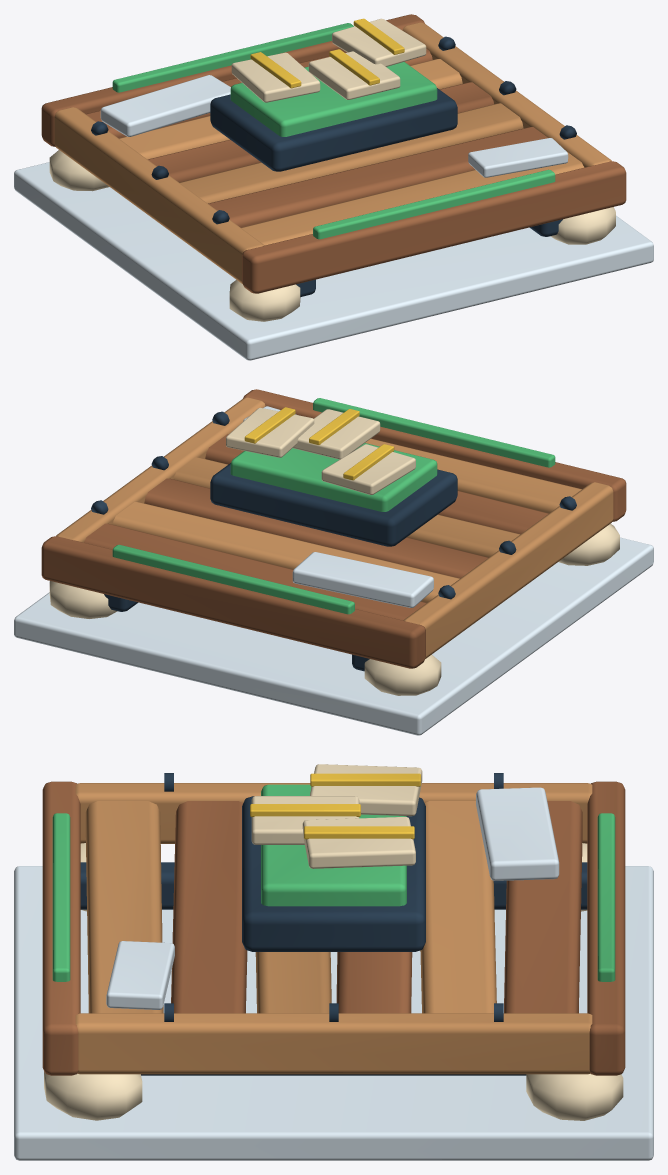
File: pad_payment.glb
The picture shows the model from 3 angles, top to bottom: view 1: azimuth 30°, elevation 25°; view 2: azimuth 150°, elevation 25°; view 3: azimuth 270°, elevation 25°; orthographic projection. The views are drawn at different scales.
Visible parts, largest first — view 1: pad_payment; view 2: pad_payment; view 3: pad_payment.
Part boxes in pixels (box(x1,y1,x2,y2)): pad_payment: box(14, 14, 653, 360); pad_payment: box(14, 389, 653, 735); pad_payment: box(14, 764, 653, 1160).
Bounding box in the file's own units: 2.02 × 0.8175 × 2.02.
